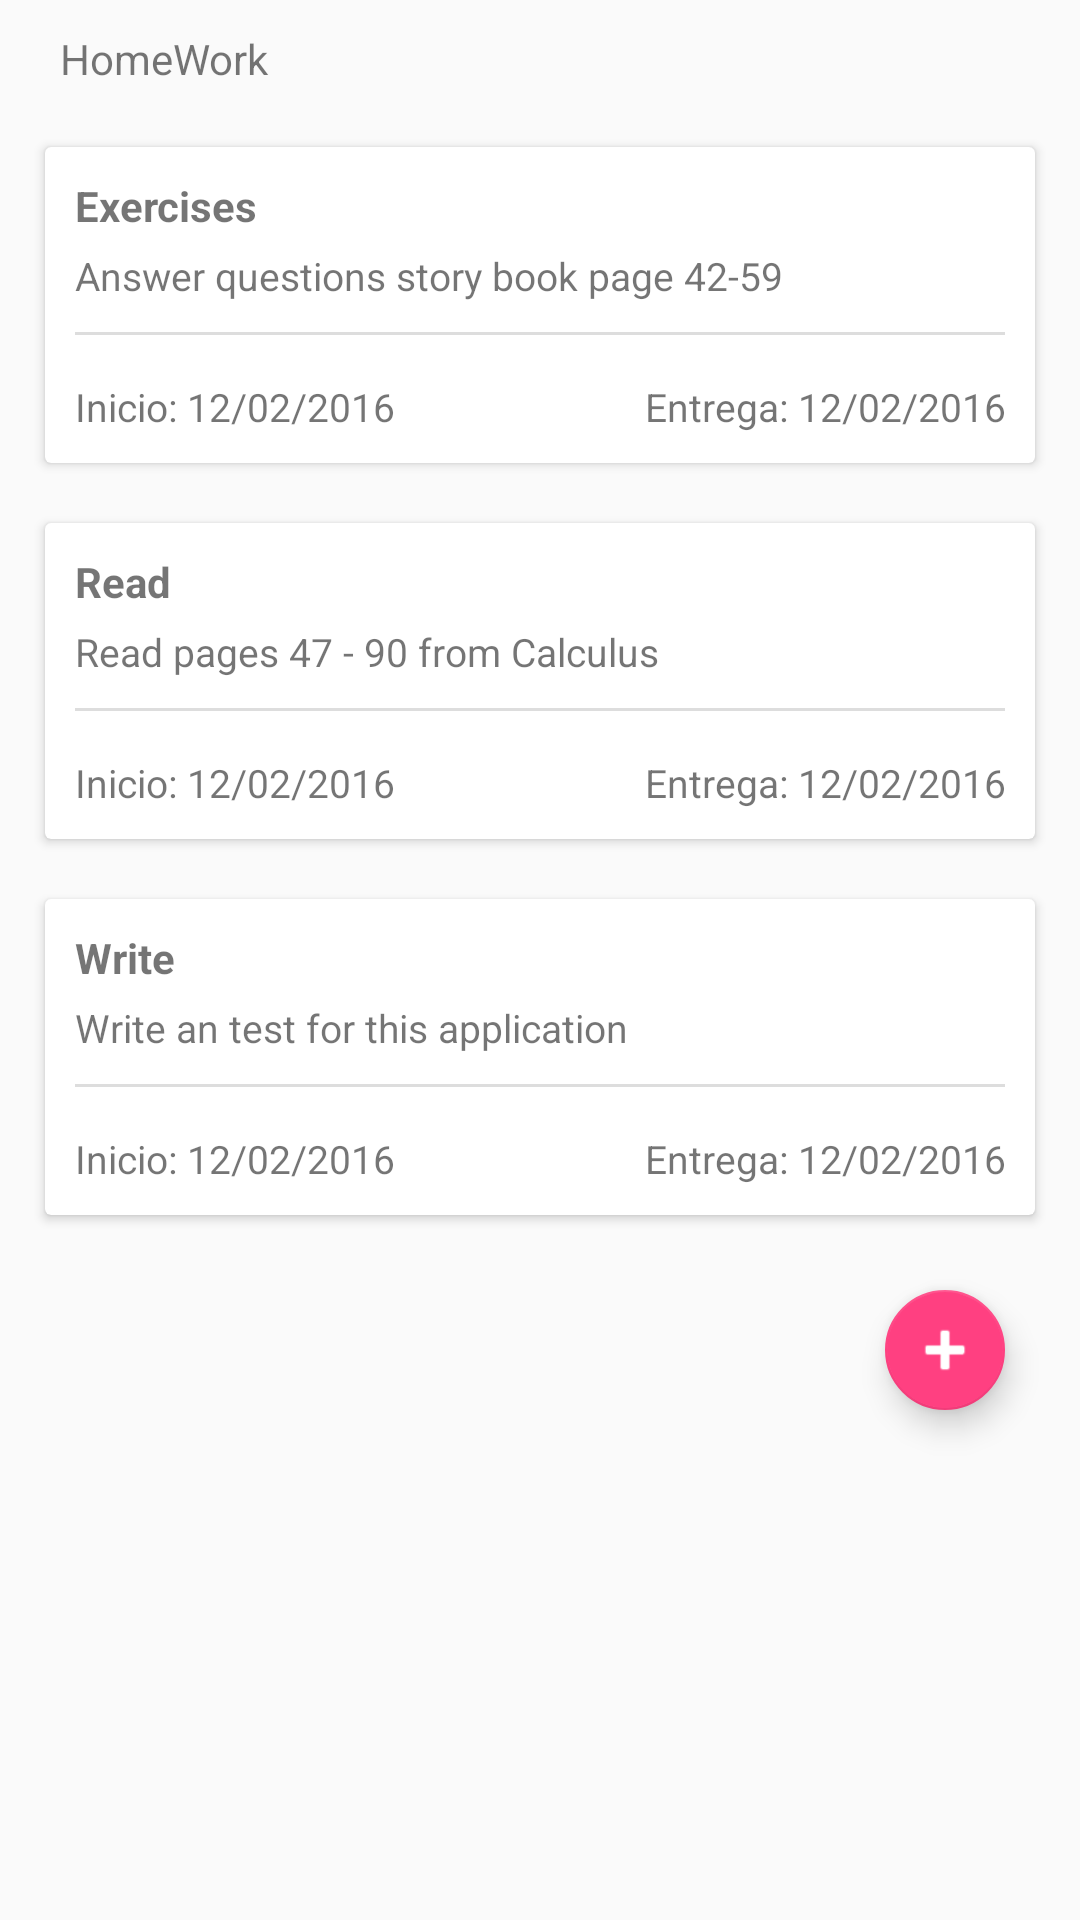

Icon bounding boxes for this 1080px x 1920px phone screenshot, format bbox(x1, y1, x2, y2):
add: bbox(885, 1290, 1005, 1410)
